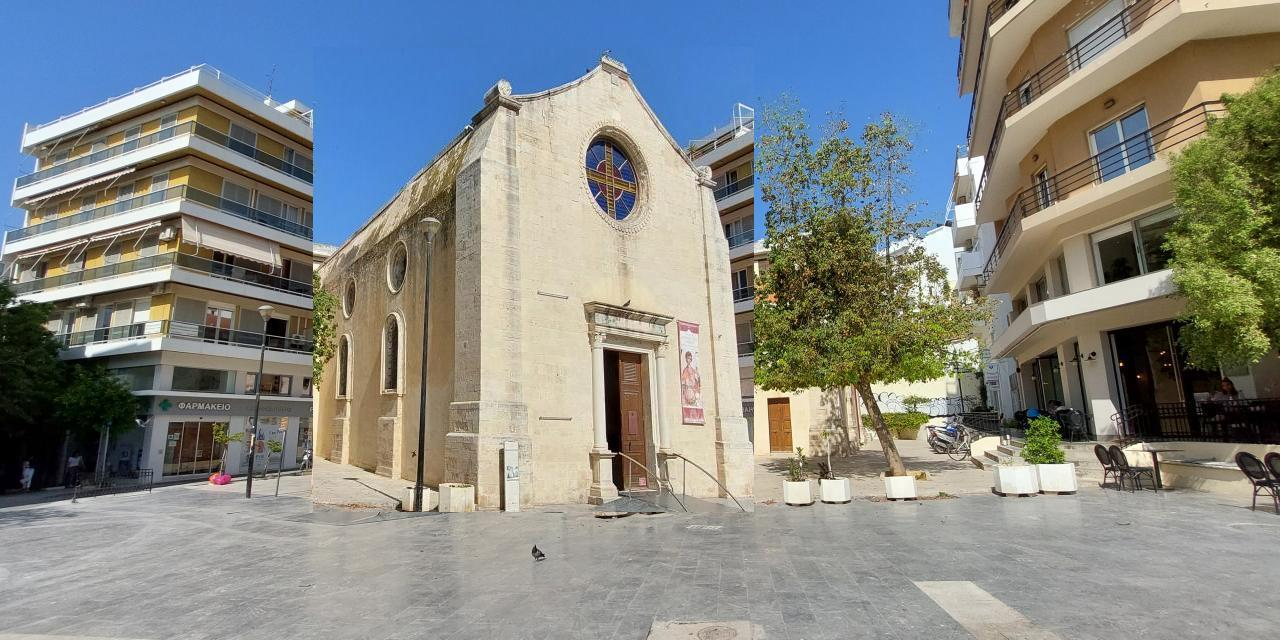Agia Aikaterini: (314, 48, 755, 513)
